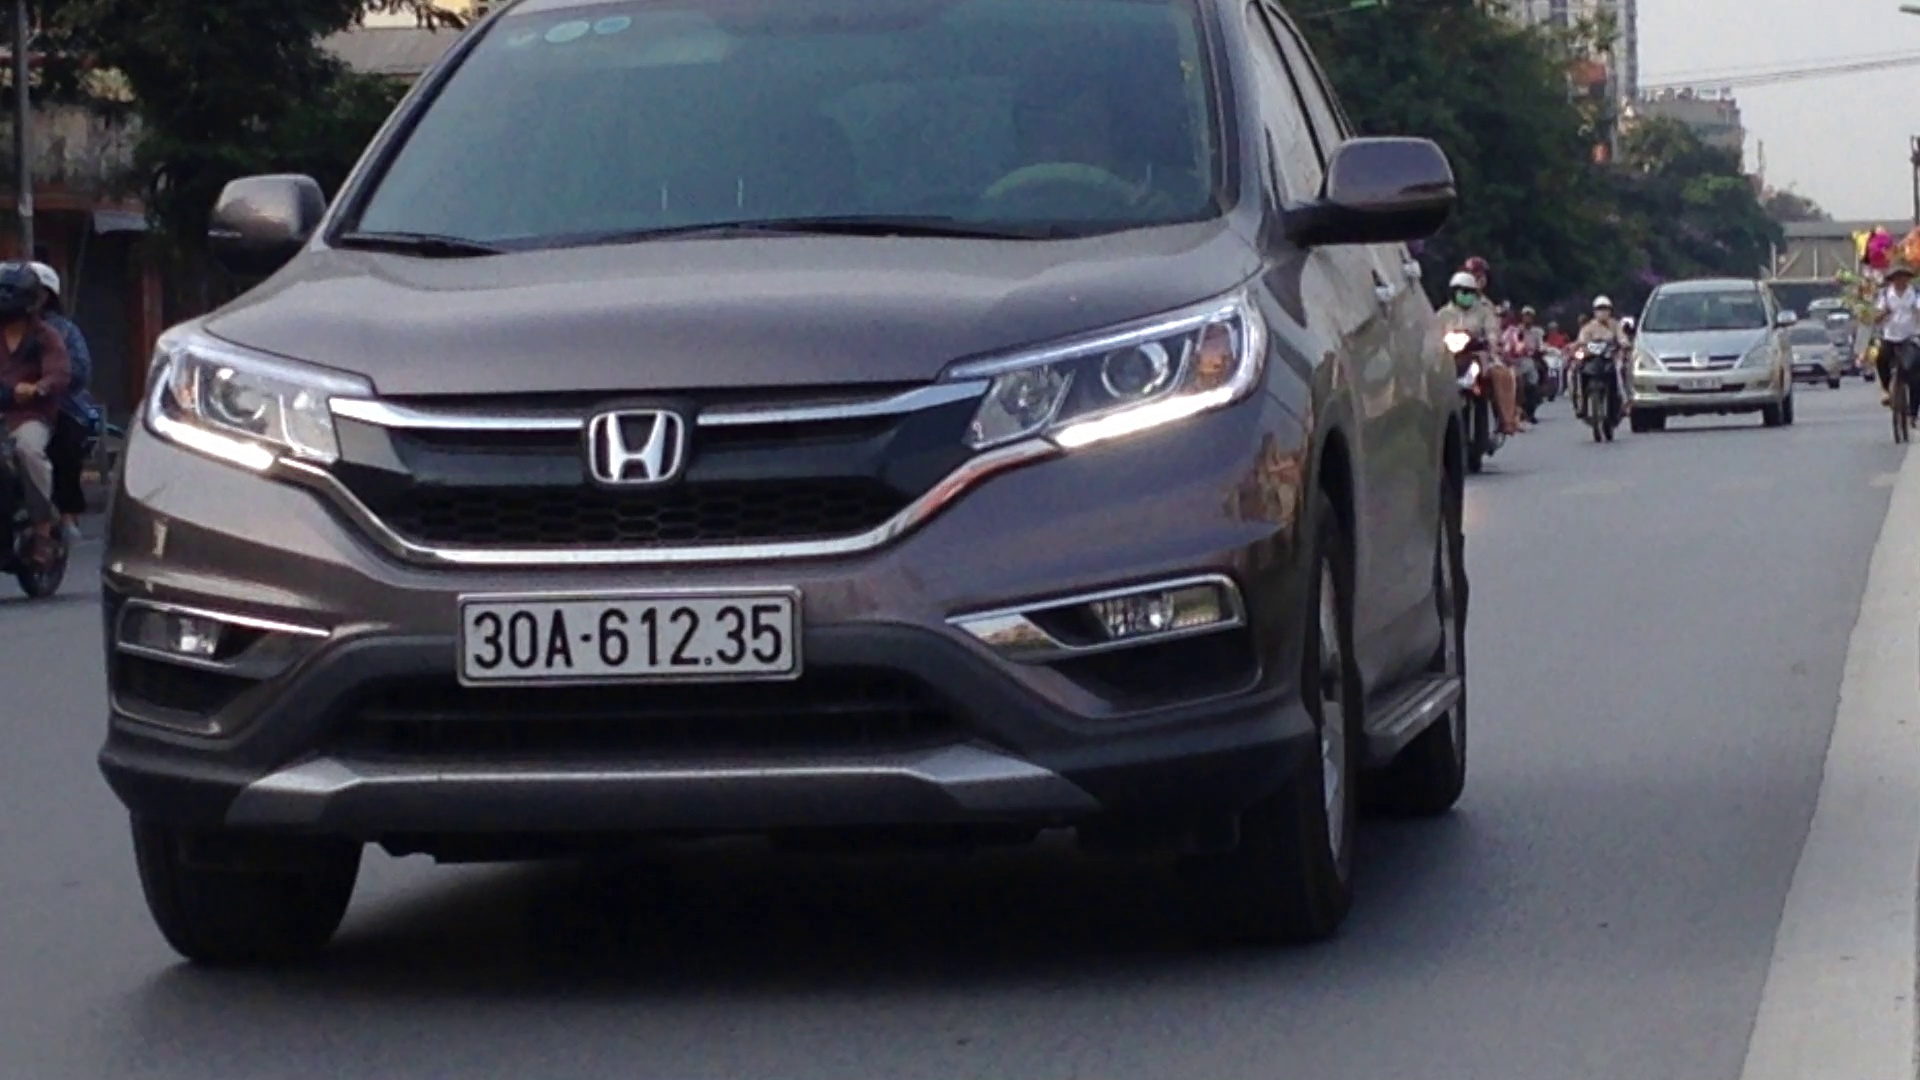person: (451, 585, 803, 686)
